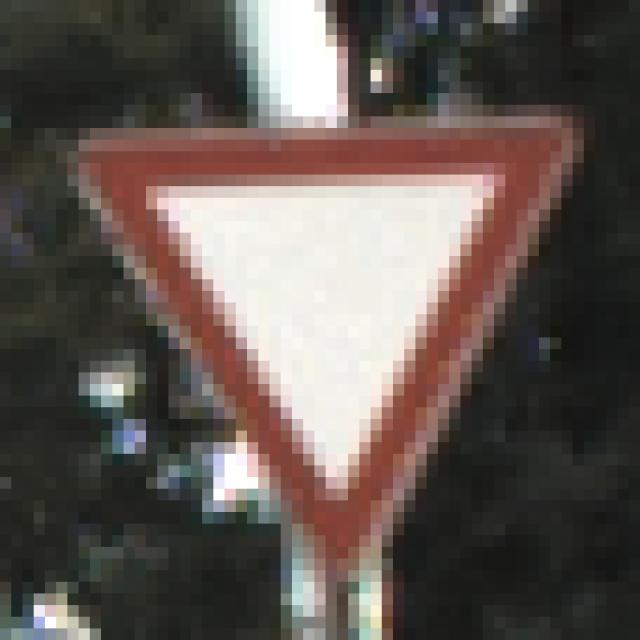Give Way: (57, 71, 585, 583)
